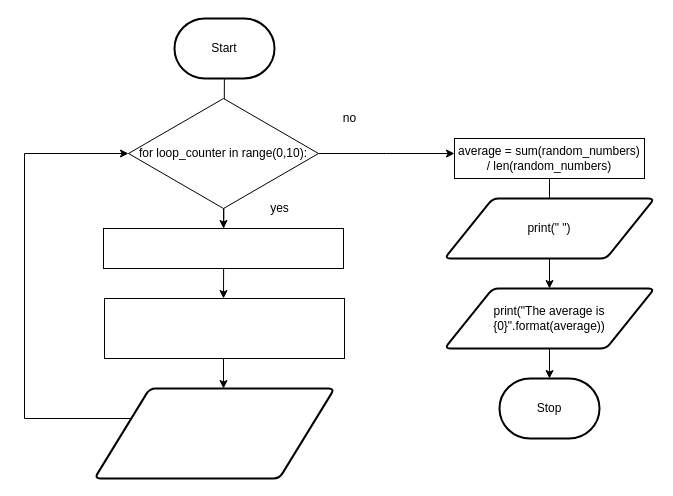
Some shapes in this 673 by 496 pixel diagram are drawn without their labels. The centre of each missing label's shape, as x and y in pixels:
print("The random number is {0}".format(random_numbers[loop_counter])"): pixel 214 433
random_numbers.append(single_random_number: pixel 224 328
single_random_number = random.randint (0, 100): pixel 223 248
